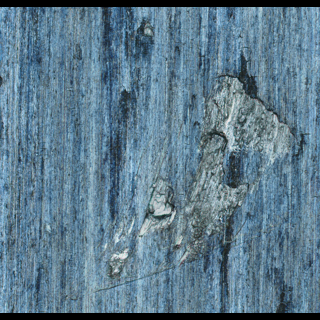d: (99, 52, 307, 280), (132, 17, 156, 51)
